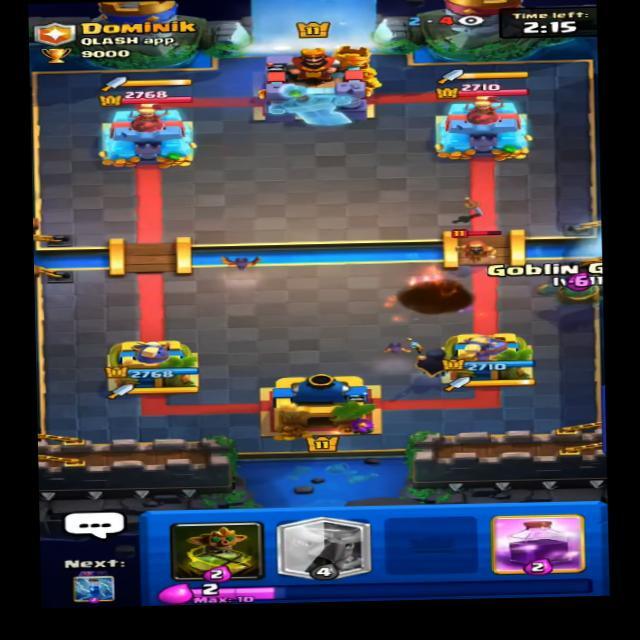wizard: (448, 225, 500, 269)
